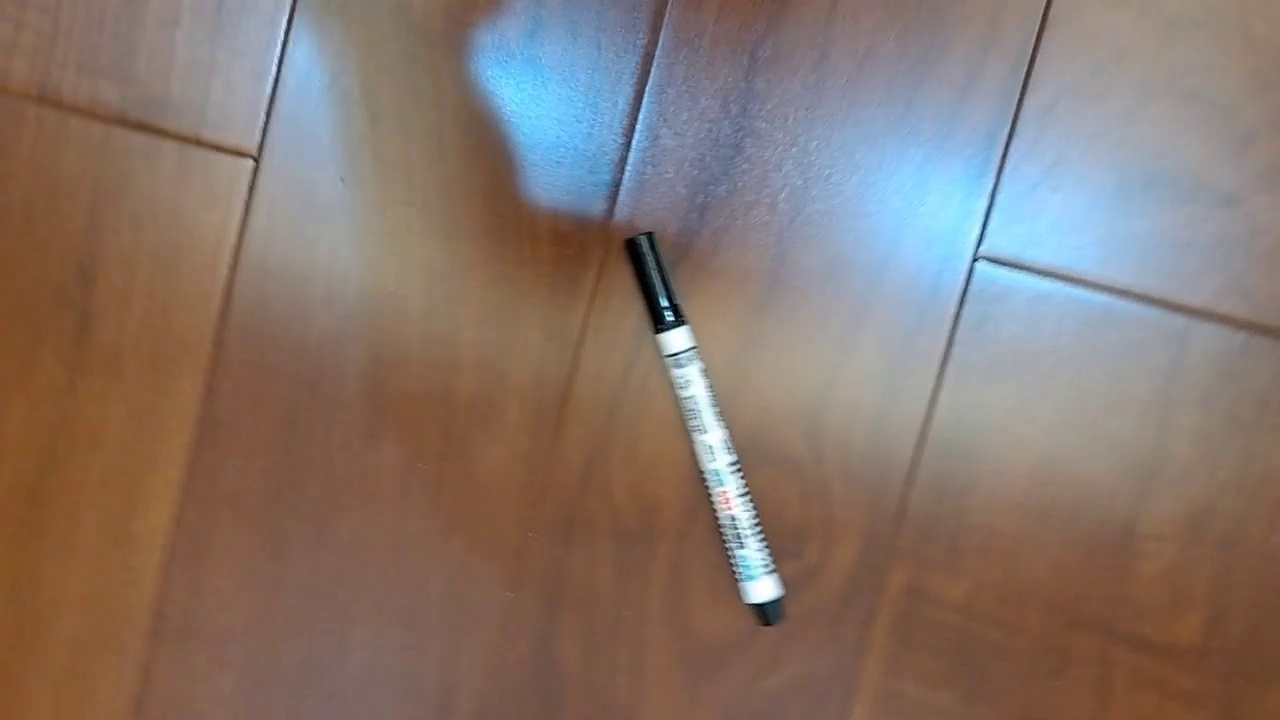pen: (621, 229, 789, 629)
